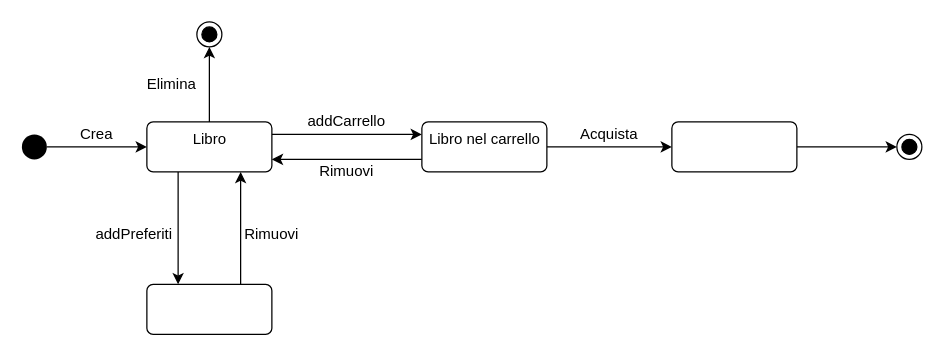
Image size: 944x356. Some labels were removed from this diagram. Here are the shapes that lost their labels. From the top down, the centre of each, then its label:
the point at 734,146: Libro ordinato
the point at 209,308: Libro Preferito
